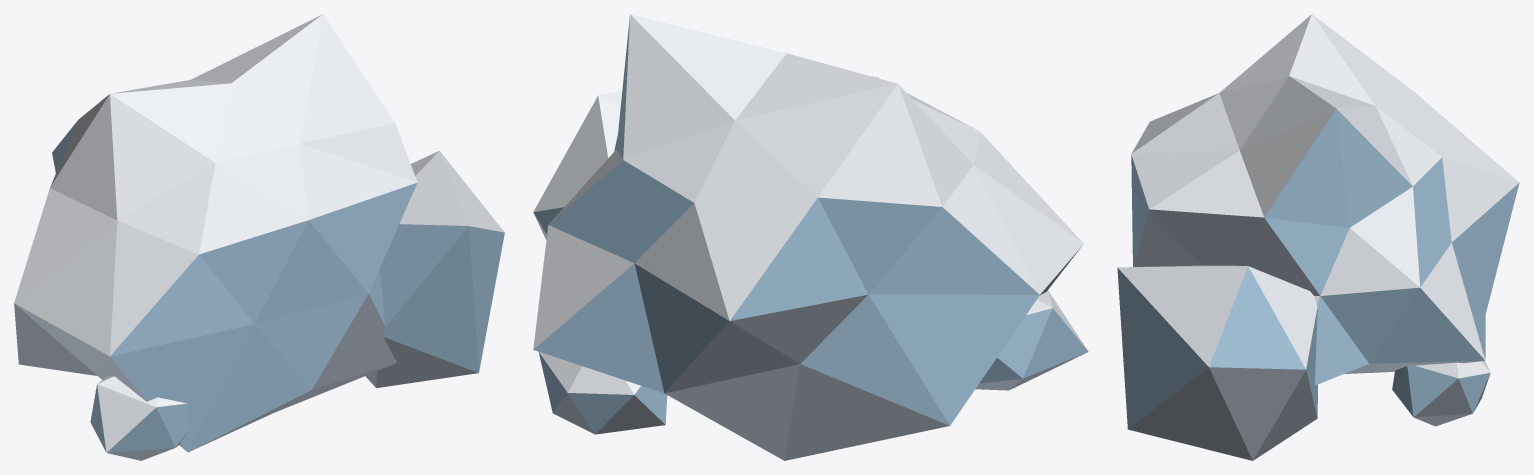
The model's file is rock_ice_01.glb.
3 views of the same model, side by side, from view 1: azimuth 30°, elevation 25°; view 2: azimuth 150°, elevation 25°; view 3: azimuth 270°, elevation 25° (orthographic). The views are drawn at different scales.
Visible parts, largest first — view 1: rock_ice_01; view 2: rock_ice_01; view 3: rock_ice_01.
Boxes of the visible parts, x1=… form: rock_ice_01: x1=14, y1=14, x2=504, y2=460; rock_ice_01: x1=533, y1=14, x2=1088, y2=460; rock_ice_01: x1=1117, y1=14, x2=1519, y2=460.
Size of what is drawn, in the model's own units: 2.05 by 1.42 by 1.57.
1 material, 1 textured.
